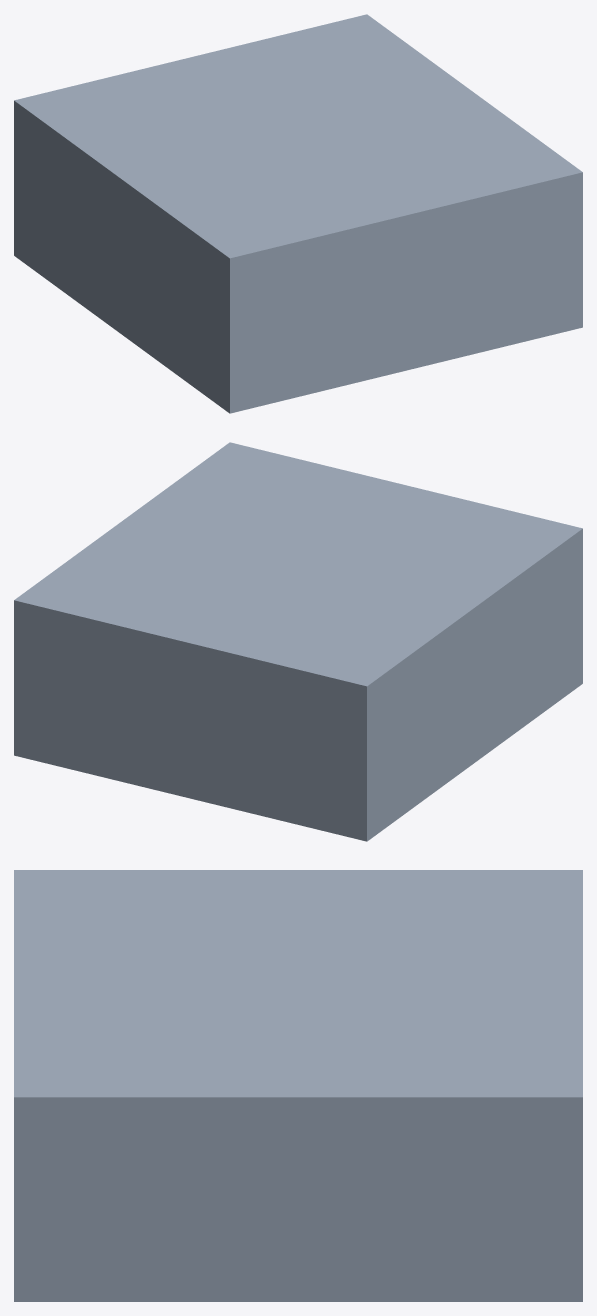
File: SM_MM_T01_Body_02.fbx
3 views of the same model, one above another, from view 1: azimuth 30°, elevation 25°; view 2: azimuth 150°, elevation 25°; view 3: azimuth 270°, elevation 25° (orthographic). The views are drawn at different scales.
Parts seen in each view (by area): view 1: SM_MM_T01_Body_02; view 2: SM_MM_T01_Body_02; view 3: SM_MM_T01_Body_02.
Part boxes in pixels (left/top/right/bottom): SM_MM_T01_Body_02: left=14, top=14, right=582, bottom=413; SM_MM_T01_Body_02: left=14, top=442, right=582, bottom=841; SM_MM_T01_Body_02: left=14, top=870, right=582, bottom=1301.
Bounding box in the file's own units: 9.52 × 10.08 × 4.
